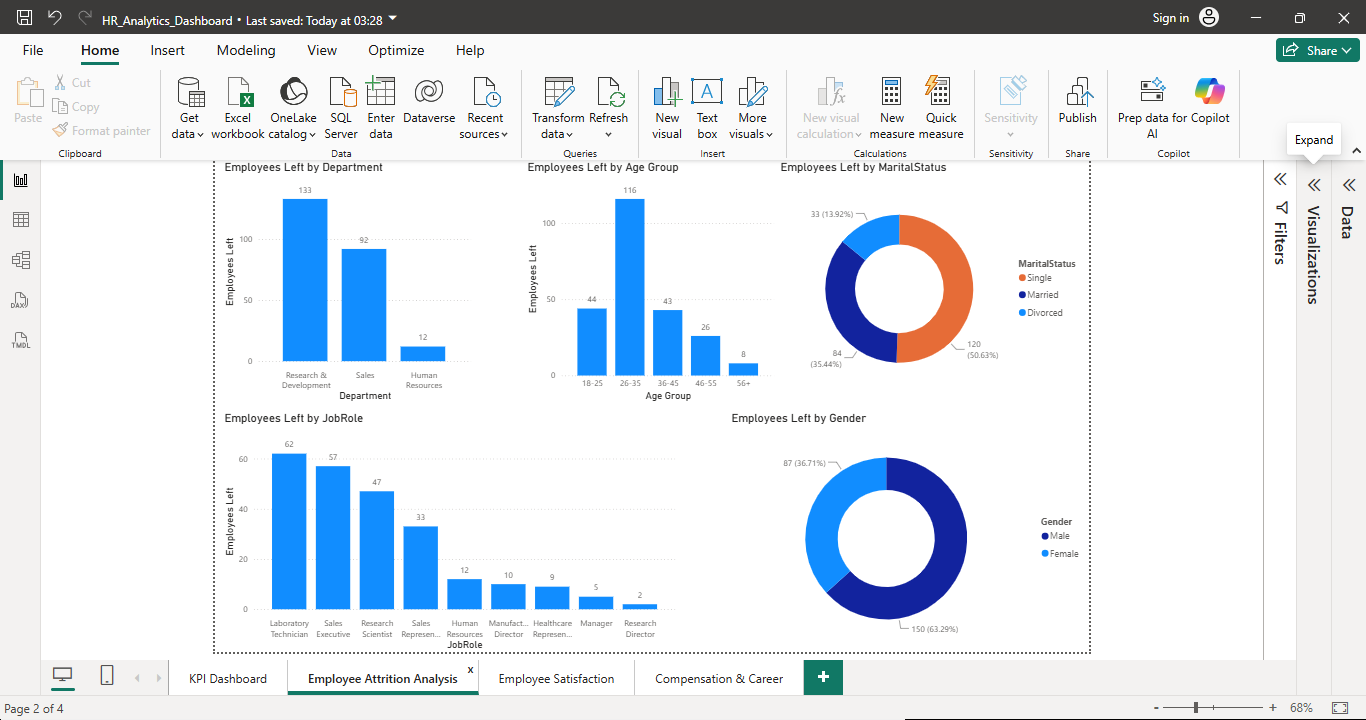

The dashboard page shown, as its layout file describes it:
{"tool":"powerbi","page":{"name":"Employee Attrition Analysis","canvas":[1280,720],"ordinal":1},"visuals":[{"type":"clusteredColumnChart","fields":{"Category":["WA_Fn-UseC_-HR-Employee-Attriti.Department"],"Y":["WA_Fn-UseC_-HR-Employee-Attriti.Employees Left"]},"box":[8.5,0,371.2,358.4],"z":0},{"type":"clusteredColumnChart","fields":{"Category":["WA_Fn-UseC_-HR-Employee-Attriti.JobRole"],"Y":["WA_Fn-UseC_-HR-Employee-Attriti.Employees Left"]},"box":[8.5,366.9,669.9,354.1],"z":1000},{"type":"clusteredColumnChart","fields":{"Category":["WA_Fn-UseC_-HR-Employee-Attriti.Age Group"],"Y":["WA_Fn-UseC_-HR-Employee-Attriti.Employees Left"]},"box":[452.3,0,371.2,358.4],"z":2000},{"type":"donutChart","fields":{"Category":["WA_Fn-UseC_-HR-Employee-Attriti.Gender"],"Y":["WA_Fn-UseC_-HR-Employee-Attriti.Employees Left"]},"box":[750.9,366.9,529.1,354.1],"z":3000},{"type":"donutChart","fields":{"Category":["WA_Fn-UseC_-HR-Employee-Attriti.MaritalStatus"],"Y":["WA_Fn-UseC_-HR-Employee-Attriti.Employees Left"]},"box":[823,0,457,358],"z":4000}]}

Visuals, with their boxes on the page's 1280x720 design canvas (x1, y1, x2, y2). These are canvas units, not pixel positions in the 1366x720 screenshot, which may show the page scaled, cropped or inside an application window:
clusteredColumnChart - WA_Fn-UseC_-HR-Employee-Attriti.Department x WA_Fn-UseC_-HR-Employee-Attriti.Employees Left: <box>8,0,380,358</box>
clusteredColumnChart - WA_Fn-UseC_-HR-Employee-Attriti.JobRole x WA_Fn-UseC_-HR-Employee-Attriti.Employees Left: <box>8,367,678,721</box>
clusteredColumnChart - WA_Fn-UseC_-HR-Employee-Attriti.Age Group x WA_Fn-UseC_-HR-Employee-Attriti.Employees Left: <box>452,0,824,358</box>
donutChart - WA_Fn-UseC_-HR-Employee-Attriti.Gender x WA_Fn-UseC_-HR-Employee-Attriti.Employees Left: <box>751,367,1280,721</box>
donutChart - WA_Fn-UseC_-HR-Employee-Attriti.MaritalStatus x WA_Fn-UseC_-HR-Employee-Attriti.Employees Left: <box>823,0,1280,358</box>
